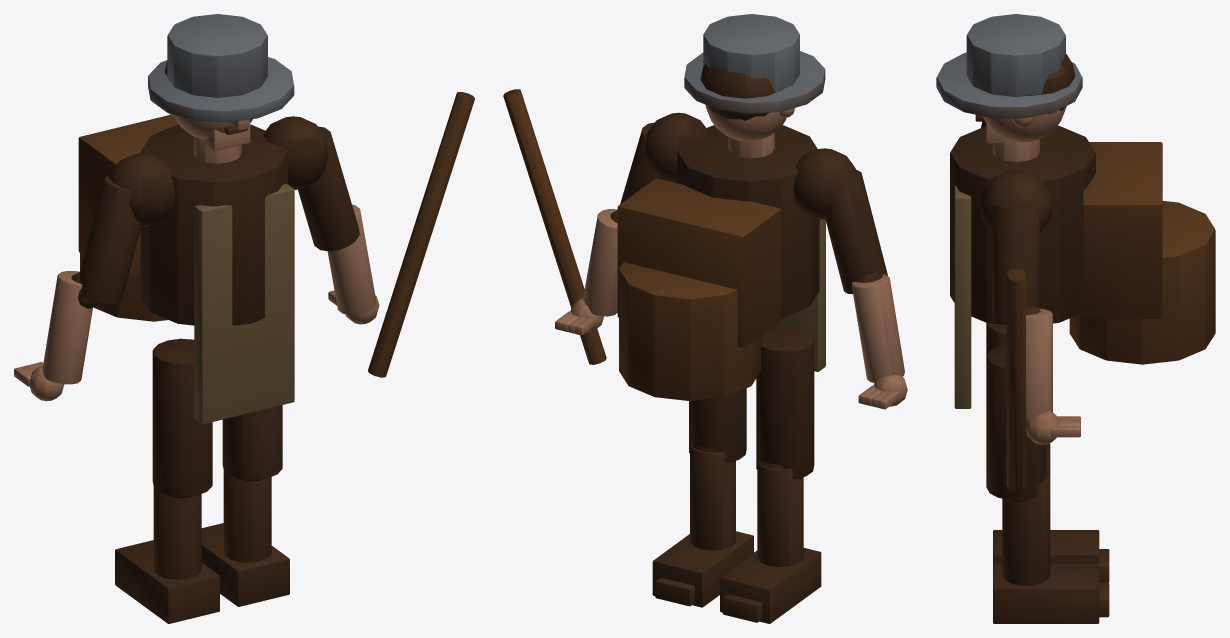
Rendered from unit_sapper.fbx.
3 renders of one model, left to right at view 1: azimuth 30°, elevation 25°; view 2: azimuth 150°, elevation 25°; view 3: azimuth 270°, elevation 25°, orthographic. The views are drawn at different scales.
Visible parts, largest first — view 1: unit_sapper; view 2: unit_sapper; view 3: unit_sapper.
Part boxes in pixels (x1=…): unit_sapper: x1=14, y1=14, x2=474, y2=623; unit_sapper: x1=503, y1=14, x2=907, y2=623; unit_sapper: x1=936, y1=14, x2=1215, y2=623.
Size of the model in its own units: 1.47 by 1.86 by 0.8393.
